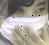with_mask: (1, 1, 49, 45)
